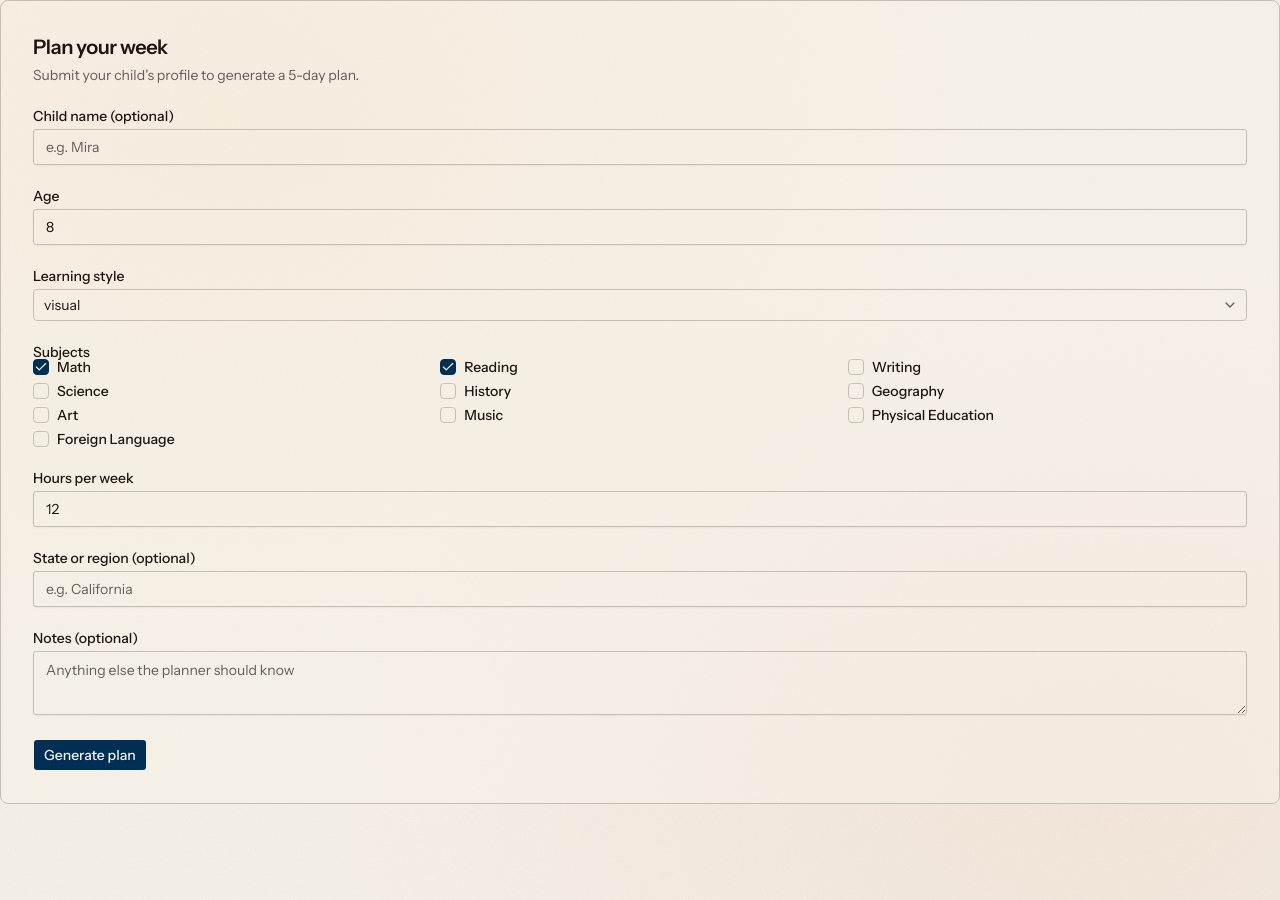
Test: ClassMapFlow — live (non-demo) API path › renders the error alert when fetch fails (non-200) — shadcn Alert variant=destructive (CM-05)
The image size is (1280, 900).
Click the button "Generate plan": x=90, y=755 [33,739,147,771]
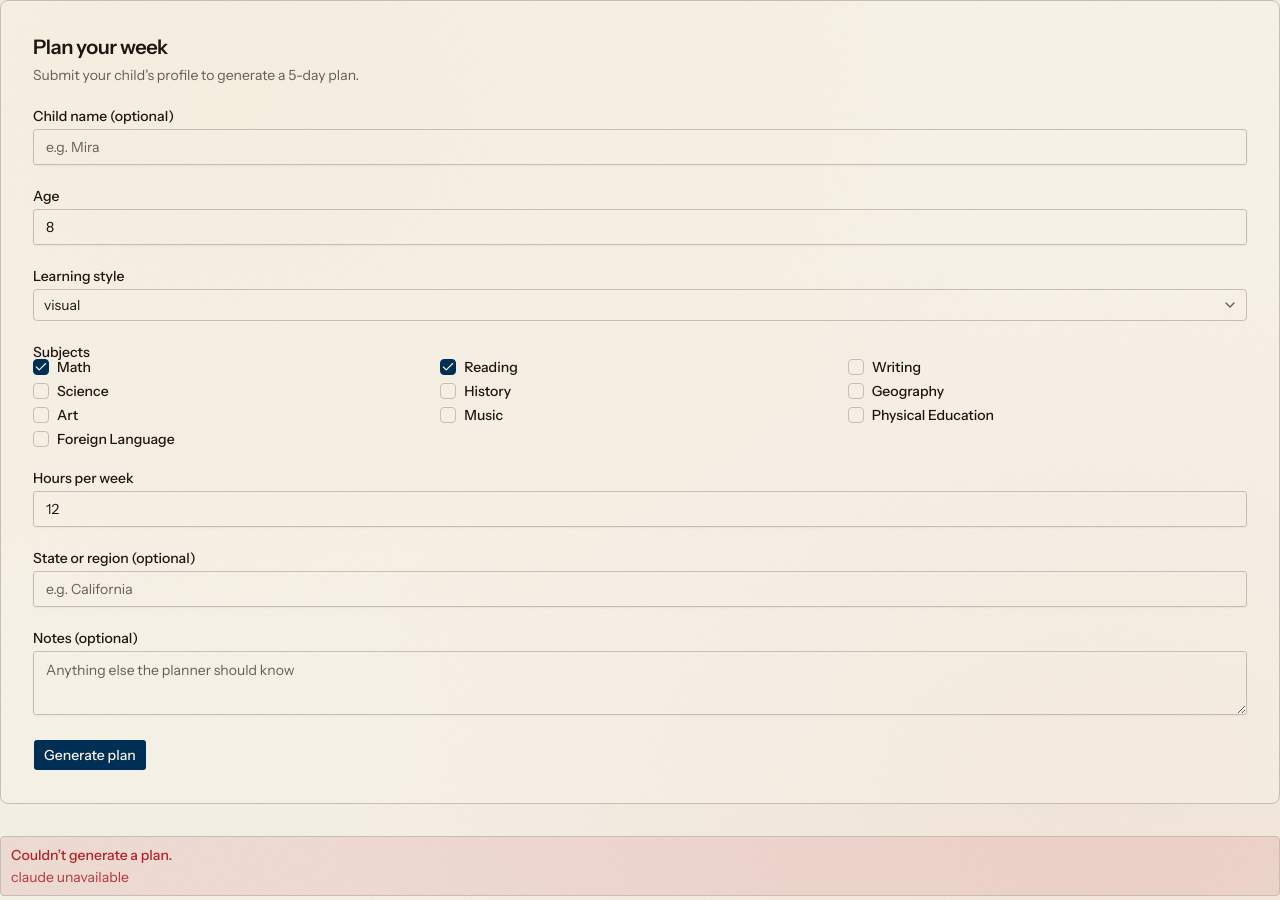
Result: the message "Couldn’t generate a plan. claude unavailable" is shown at [0,836,1279,896]
Result: the text "Couldn’t generate a plan." is shown at [11,846,172,864]
Result: the text "claude unavailable" is shown at [11,868,129,886]
